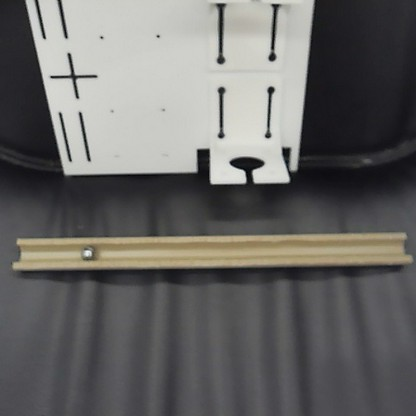ironball: (78, 243, 96, 261)
